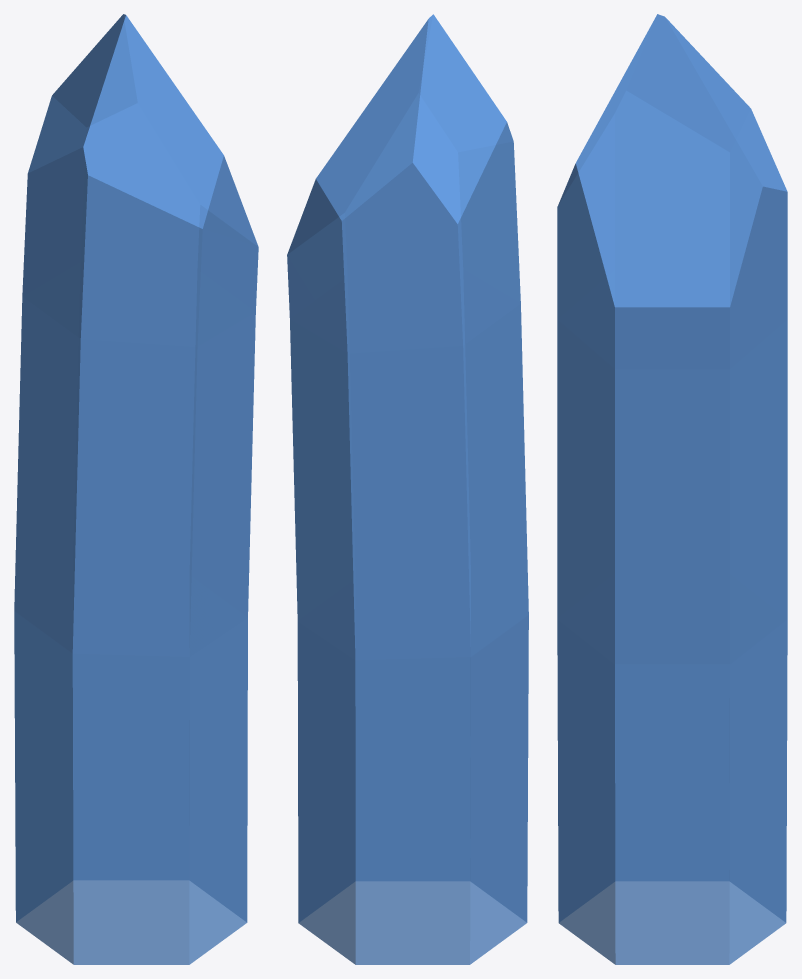
File: Crystal_m_04.fbx
The picture shows the model from 3 angles, left to right: view 1: azimuth 30°, elevation 25°; view 2: azimuth 150°, elevation 25°; view 3: azimuth 270°, elevation 25°; orthographic projection.
Visible parts, largest first — view 1: Crystal_m_04; view 2: Crystal_m_04; view 3: Crystal_m_04.
Boxes of the visible parts, left/top/right/bottom form: Crystal_m_04: left=14, top=14, right=258, bottom=964; Crystal_m_04: left=287, top=14, right=528, bottom=964; Crystal_m_04: left=557, top=14, right=787, bottom=964.
Bounding box in the file's own units: 40.14 × 189 × 43.7.
